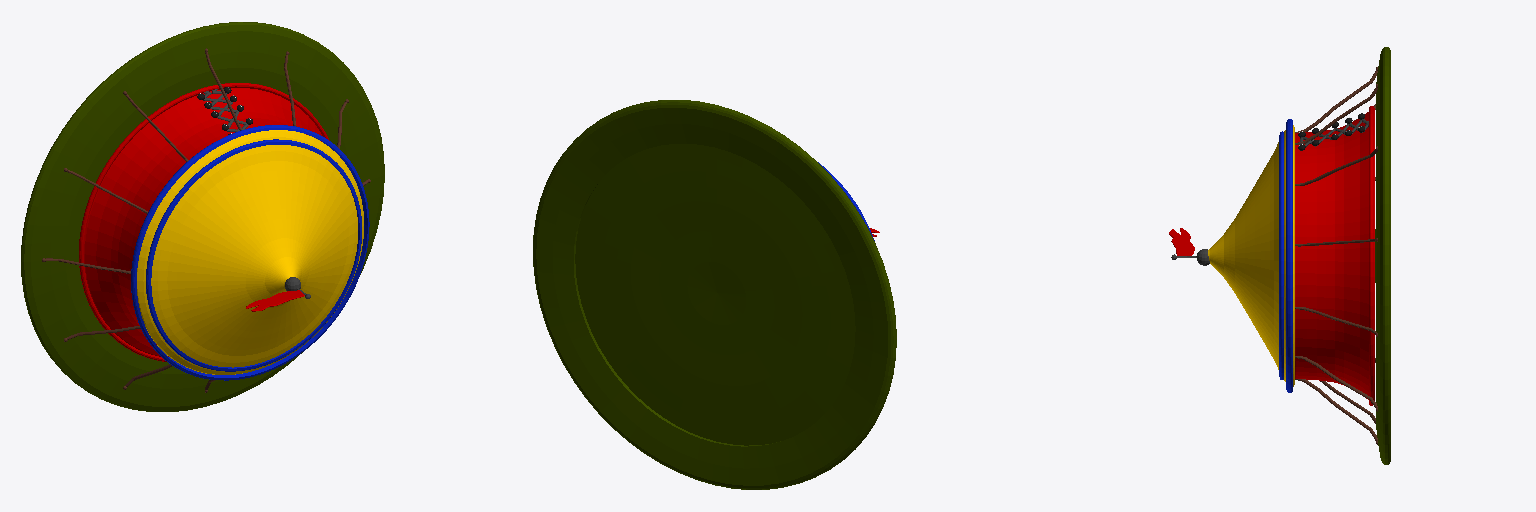
File: Circus.obj
3 renders of one model, left to right at view 1: azimuth 30°, elevation 25°; view 2: azimuth 150°, elevation 25°; view 3: azimuth 270°, elevation 25°, orthographic.
Parts seen in each view (by area): view 1: s0043.8290, s0000.5598, s0001.8977, s0002.9113, s0003.6676, s0004.5995; view 2: s0043.8290; view 3: s0001.8977, s0000.5598, s0043.8290, s0004.5995, s0002.9113, s0003.6676.
Boxes of the visible parts, x1=… form: s0043.8290: x1=21, y1=22, x2=384, y2=411; s0000.5598: x1=137, y1=130, x2=363, y2=374; s0001.8977: x1=79, y1=83, x2=329, y2=361; s0002.9113: x1=131, y1=125, x2=369, y2=380; s0003.6676: x1=146, y1=139, x2=361, y2=371; s0004.5995: x1=46, y1=52, x2=368, y2=389; s0043.8290: x1=533, y1=100, x2=896, y2=489; s0001.8977: x1=1295, y1=106, x2=1374, y2=405; s0000.5598: x1=1208, y1=125, x2=1294, y2=386; s0043.8290: x1=1375, y1=47, x2=1390, y2=464; s0004.5995: x1=1295, y1=70, x2=1377, y2=440; s0002.9113: x1=1286, y1=119, x2=1292, y2=392; s0003.6676: x1=1279, y1=131, x2=1283, y2=379.
Bounding box in the file's own units: 6.54 × 6.54 × 3.48.